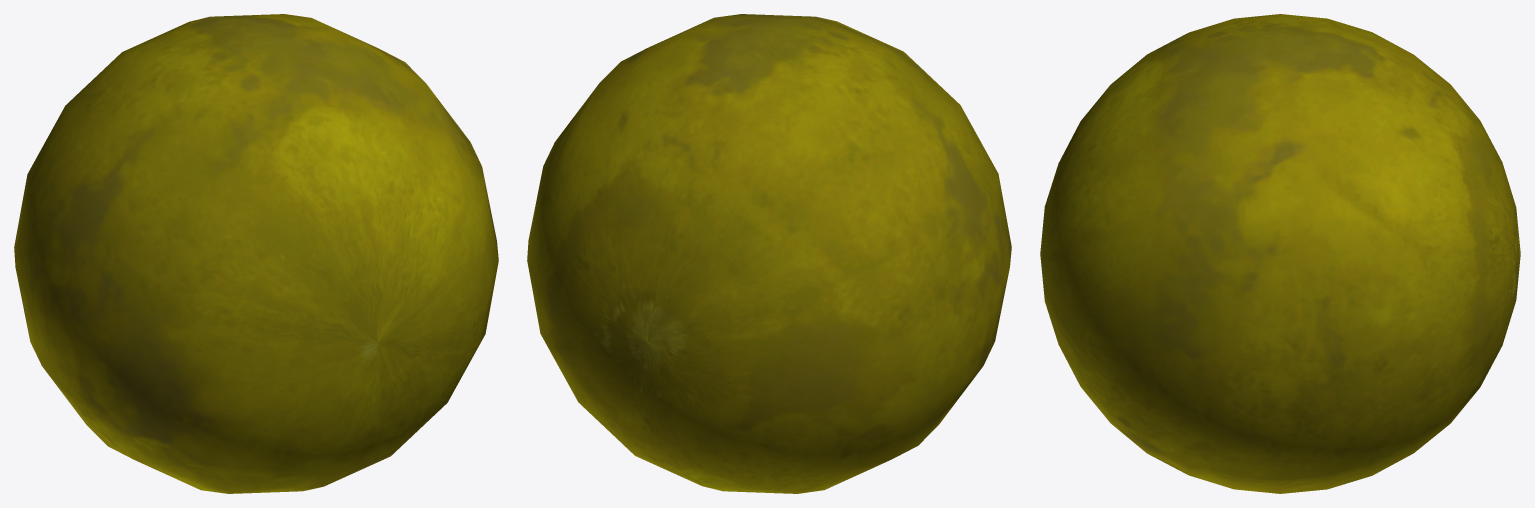
Rendered from nt_2020_globe_LOD0.obj.
3 views of the same model, side by side, from view 1: azimuth 30°, elevation 25°; view 2: azimuth 150°, elevation 25°; view 3: azimuth 270°, elevation 25° (orthographic).
Parts seen in each view (by area): view 1: mtl_nt_2020_globe_01; view 2: mtl_nt_2020_globe_01; view 3: mtl_nt_2020_globe_01.
Boxes of the visible parts, box(x1,y1,x2,y2) form: mtl_nt_2020_globe_01: box(14, 14, 498, 493); mtl_nt_2020_globe_01: box(527, 14, 1011, 493); mtl_nt_2020_globe_01: box(1040, 14, 1520, 493).
Bounding box in the file's own units: 182 × 182 × 182.
